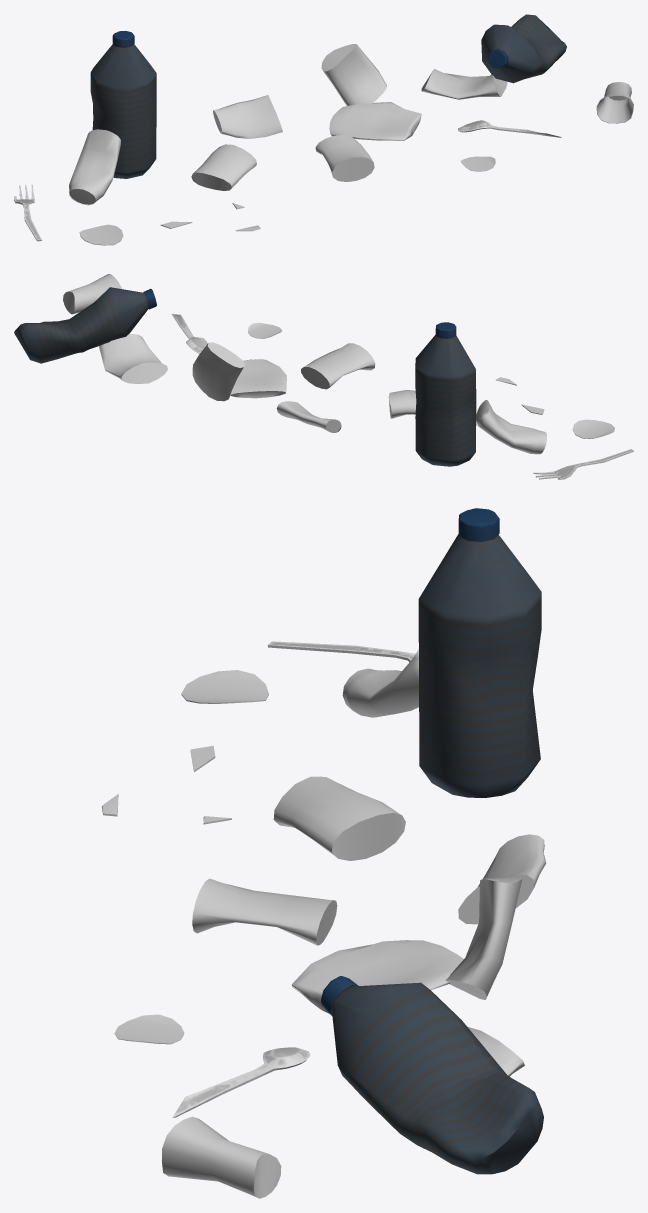
The model's file is SM_Garbage_C.fbx.
3 views of the same model, one above another, from view 1: azimuth 30°, elevation 25°; view 2: azimuth 150°, elevation 25°; view 3: azimuth 270°, elevation 25° (orthographic). The views are drawn at different scales.
Parts seen in each view (by area): view 1: SM_Water_Bottle_B.003, SM_Water_Bottle_C.004, model_4.034, model_4.028, model_4.015, model_4.030, model_4.024, model_4.022, model_4.033, model_4.027, model_4.031, SM_Cutlery_B.002 (+2 smaller); view 2: SM_Water_Bottle_B.003, SM_Water_Bottle_C.004, model_4.033, model_4.015, model_4.022, model_4.028, model_4.034, model_4.027, model_4.030, model_4.024, model_4.031, SM_Cutlery_C.003 (+2 smaller); view 3: SM_Water_Bottle_B.003, SM_Water_Bottle_C.004, model_4.024, model_4.034, model_4.027, model_4.022, model_4.015, model_4.028, model_4.030, model_4.031, SM_Cutlery_B.002, model_4.032 (+2 smaller).
Boxes of the visible parts, x1=… form: SM_Water_Bottle_B.003: x1=90, y1=31, x2=156, y2=178; SM_Water_Bottle_C.004: x1=481, y1=14, x2=566, y2=83; model_4.034: x1=329, y1=102, x2=421, y2=140; model_4.028: x1=69, y1=129, x2=120, y2=205; model_4.015: x1=321, y1=44, x2=386, y2=105; model_4.030: x1=213, y1=95, x2=282, y2=138; model_4.024: x1=191, y1=144, x2=256, y2=190; model_4.022: x1=315, y1=134, x2=374, y2=181; model_4.033: x1=421, y1=69, x2=507, y2=99; model_4.027: x1=596, y1=82, x2=633, y2=123; model_4.031: x1=79, y1=224, x2=123, y2=245; SM_Cutlery_B.002: x1=458, y1=120, x2=561, y2=137; SM_Water_Bottle_B.003: x1=415, y1=322, x2=476, y2=466; SM_Water_Bottle_C.004: x1=14, y1=287, x2=156, y2=363; model_4.033: x1=99, y1=334, x2=167, y2=383; model_4.015: x1=192, y1=342, x2=244, y2=401; model_4.022: x1=301, y1=343, x2=375, y2=389; model_4.028: x1=476, y1=400, x2=546, y2=454; model_4.034: x1=230, y1=359, x2=286, y2=398; model_4.027: x1=63, y1=274, x2=121, y2=314; model_4.030: x1=276, y1=401, x2=341, y2=432; model_4.024: x1=388, y1=390, x2=416, y2=418; model_4.031: x1=572, y1=419, x2=614, y2=438; SM_Cutlery_C.003: x1=533, y1=449, x2=633, y2=479; SM_Water_Bottle_B.003: x1=418, y1=508, x2=541, y2=797; SM_Water_Bottle_C.004: x1=321, y1=976, x2=543, y2=1174; model_4.024: x1=273, y1=776, x2=405, y2=860; model_4.034: x1=291, y1=940, x2=463, y2=1013; model_4.027: x1=162, y1=1116, x2=281, y2=1198; model_4.022: x1=192, y1=878, x2=337, y2=945; model_4.015: x1=445, y1=878, x2=522, y2=999; model_4.028: x1=342, y1=649, x2=418, y2=717; model_4.030: x1=458, y1=834, x2=546, y2=924; model_4.031: x1=181, y1=670, x2=268, y2=703; SM_Cutlery_B.002: x1=172, y1=1047, x2=310, y2=1117; model_4.032: x1=114, y1=1014, x2=184, y2=1044.
Bounding box in the file's own units: 149 × 32.33 × 49.93.
